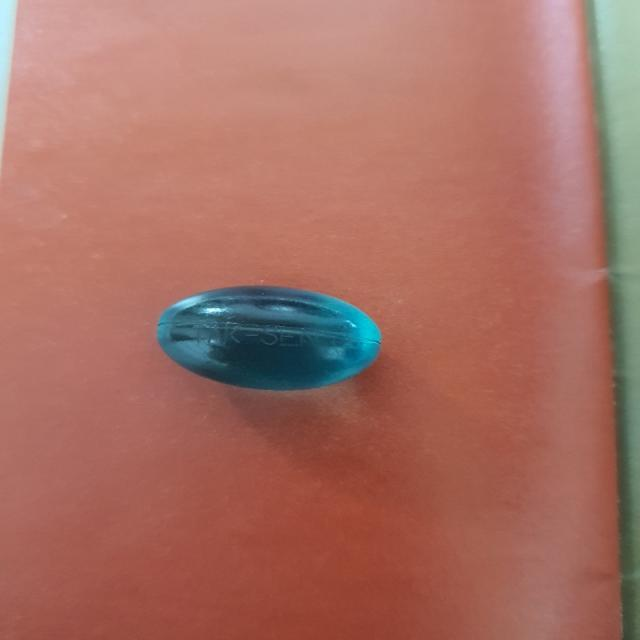pill: (131, 274, 398, 392)
